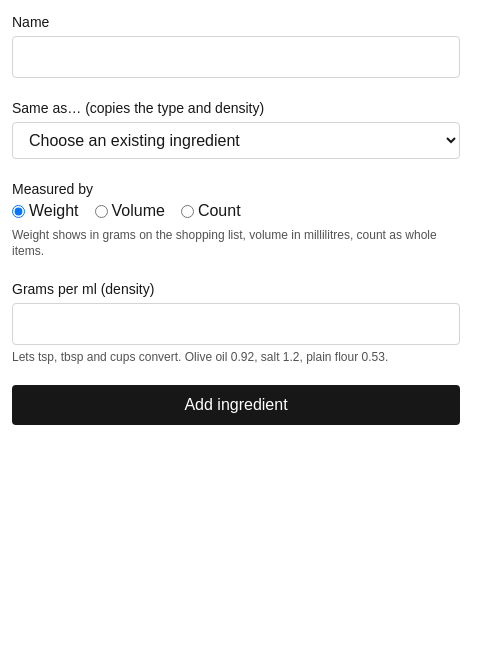
IngredientForm › copies type and density from a 'same as' ingredient without touching the name
Type "Rapeseed oil" into the field labelled "Name" at {"x": 236, "y": 57}, box [12,36,460,78]
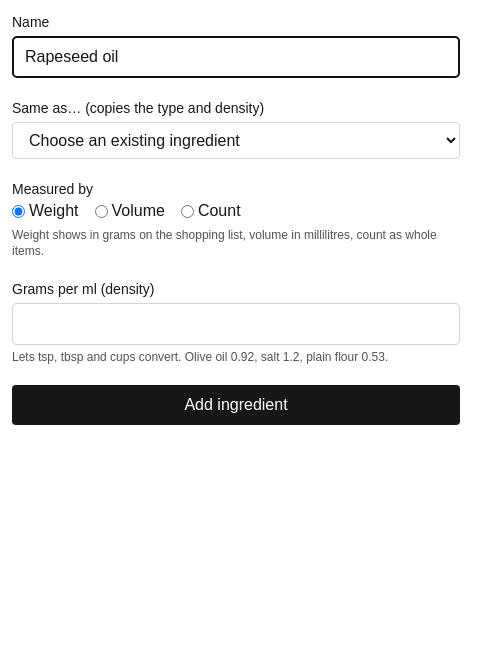
Select "Olive oil" in the dropdown labelled "Same as… (copies the type and density)" at {"x": 236, "y": 140}, box [12,122,460,159]
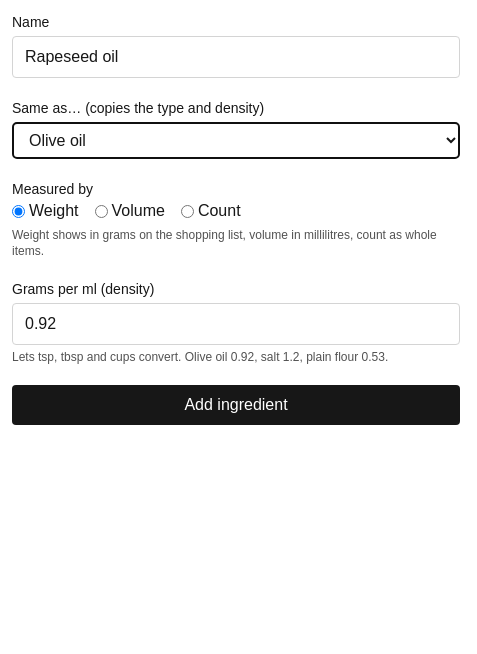
expect the radio button labelled "Weight" is checked: met, box [12,204,25,218]
expect the number field labelled "Grams per ml (density)" holds "0.92": met, box [12,303,460,345]
Select "Egg" in the dropdown labelled "Same as… (copies the type and density)" at {"x": 236, "y": 140}, box [12,122,460,159]
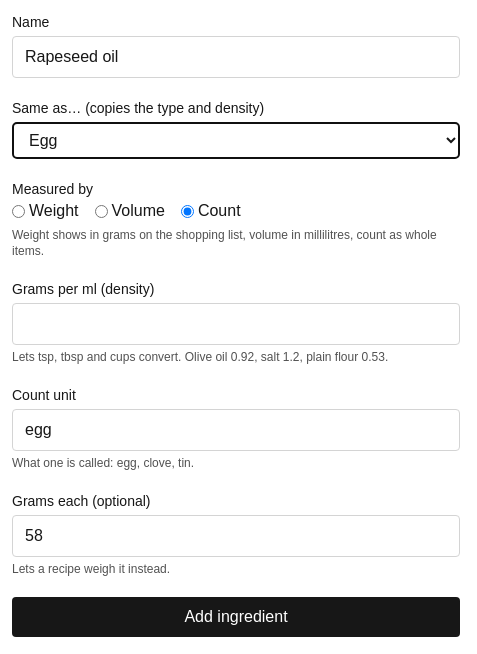
expect the radio button labelled "Count" is checked: met, box [181,204,194,218]
expect the field labelled "Count unit" holds "egg": met, box [12,409,460,451]
expect the number field labelled "Grams each (optional)" holds "58": met, box [12,515,460,557]
